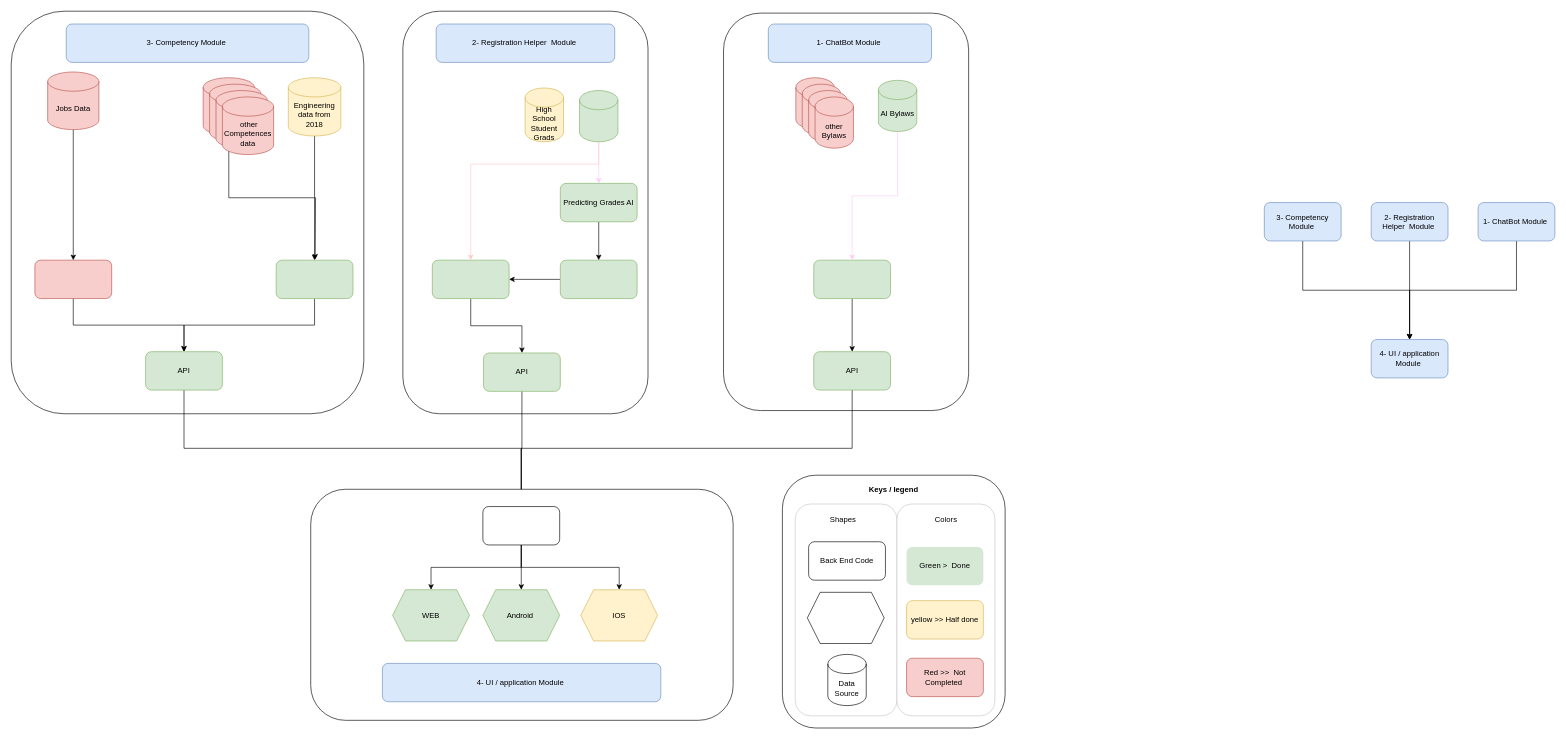
Some shapes in this 1566 by 739 pixel diagram are drawn without their labels. Each missing label, with the centre of its shape:
"allowed courses Logic" goes at point (470, 279).
"Backend" goes at point (598, 279).
"ChatBot AI" goes at point (852, 279).
"Competences" goes at point (314, 279).
"Jobs" goes at point (73, 279).
"Shared Flutter Source Code" goes at point (521, 525).
"Students Grades" goes at point (598, 116).
"UI / Application" goes at point (845, 618).
